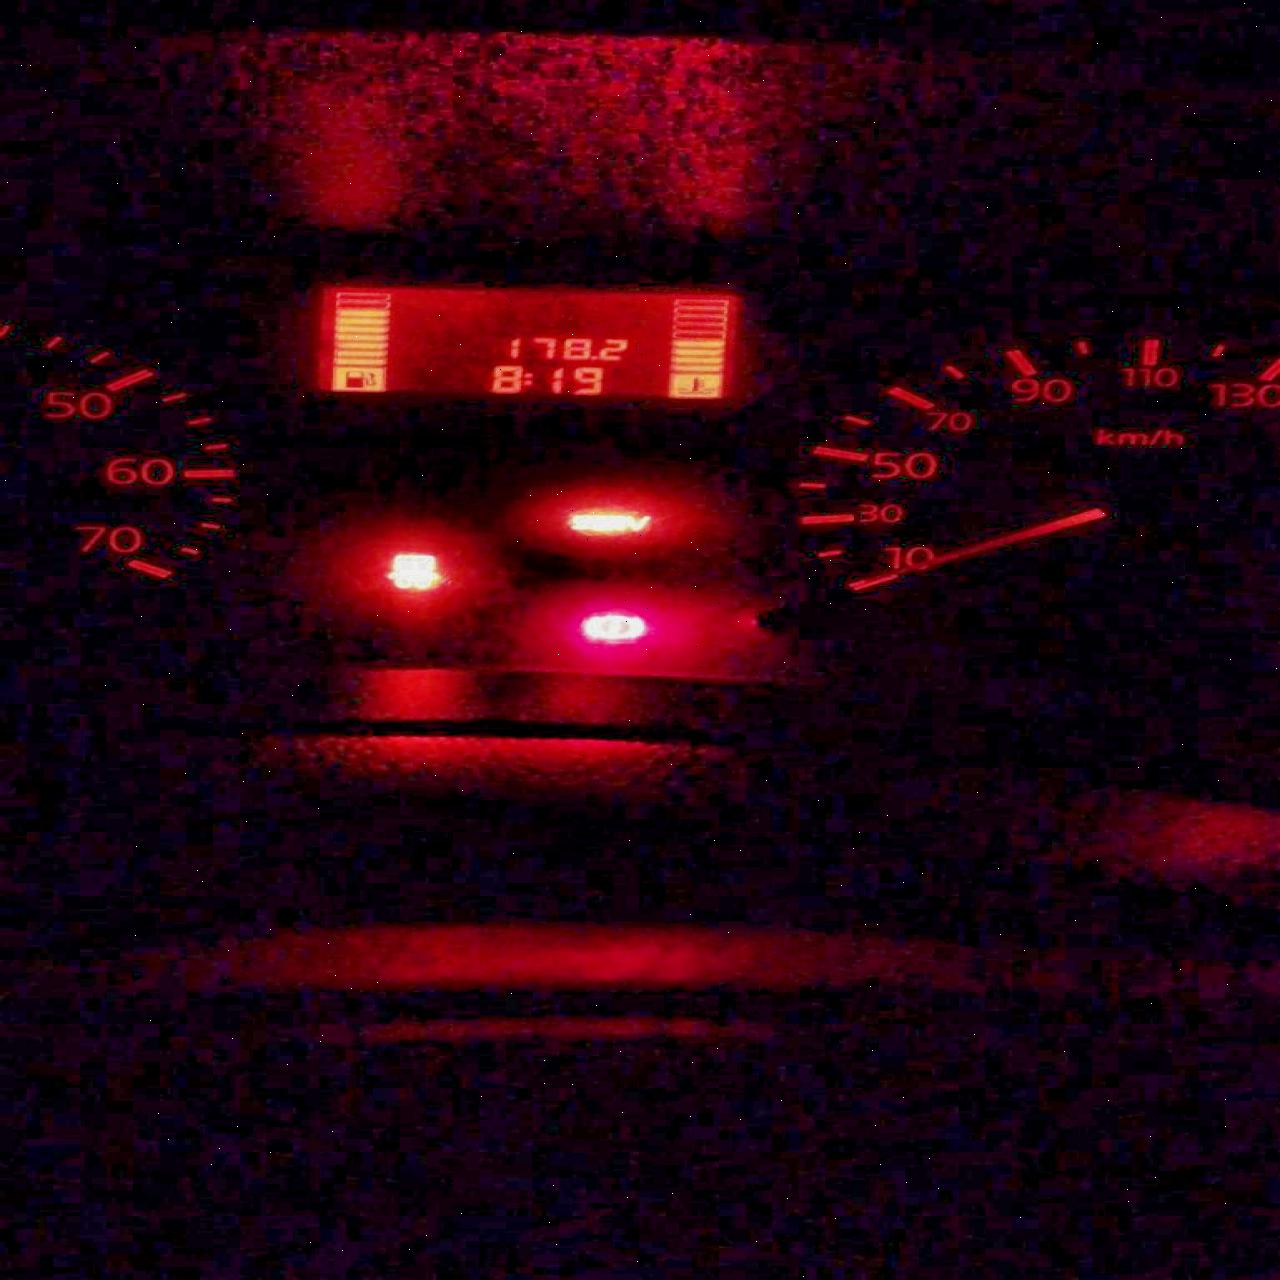-: (587, 354, 598, 360)
1: (550, 367, 565, 395), (508, 338, 519, 359)
2: (598, 338, 627, 360)
7: (530, 336, 556, 359)
8: (489, 365, 523, 393), (561, 338, 591, 359)
9: (571, 366, 602, 395)
X: (520, 373, 535, 386)
odometer: (306, 284, 742, 402)
